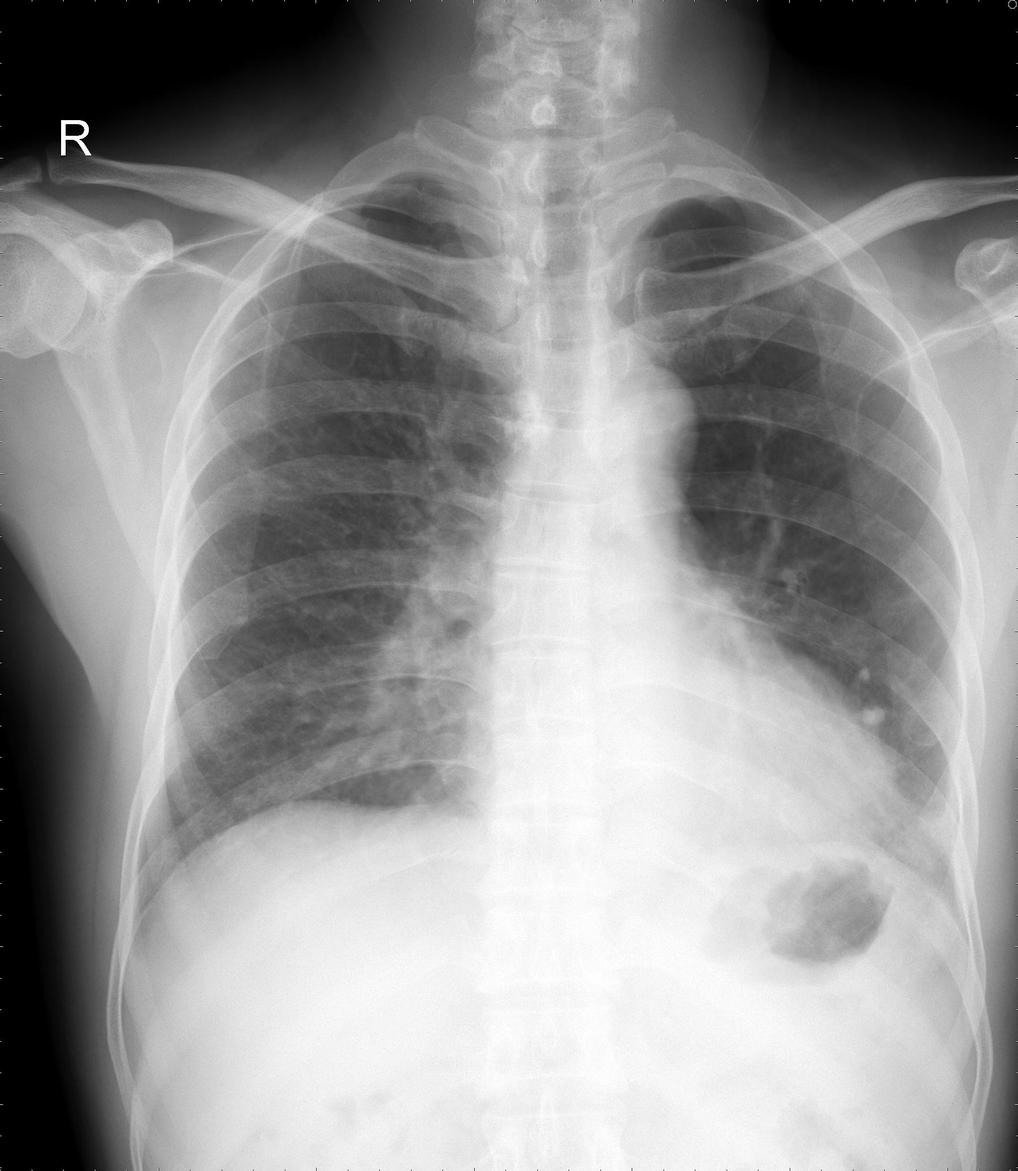Cardiomegaly: (455, 720, 890, 843)
Pulmonary fibrosis: (893, 773, 949, 878)
